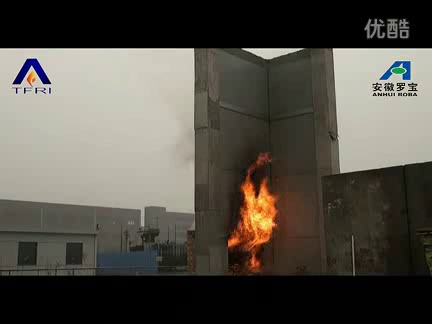fire: (225, 155, 283, 276)
